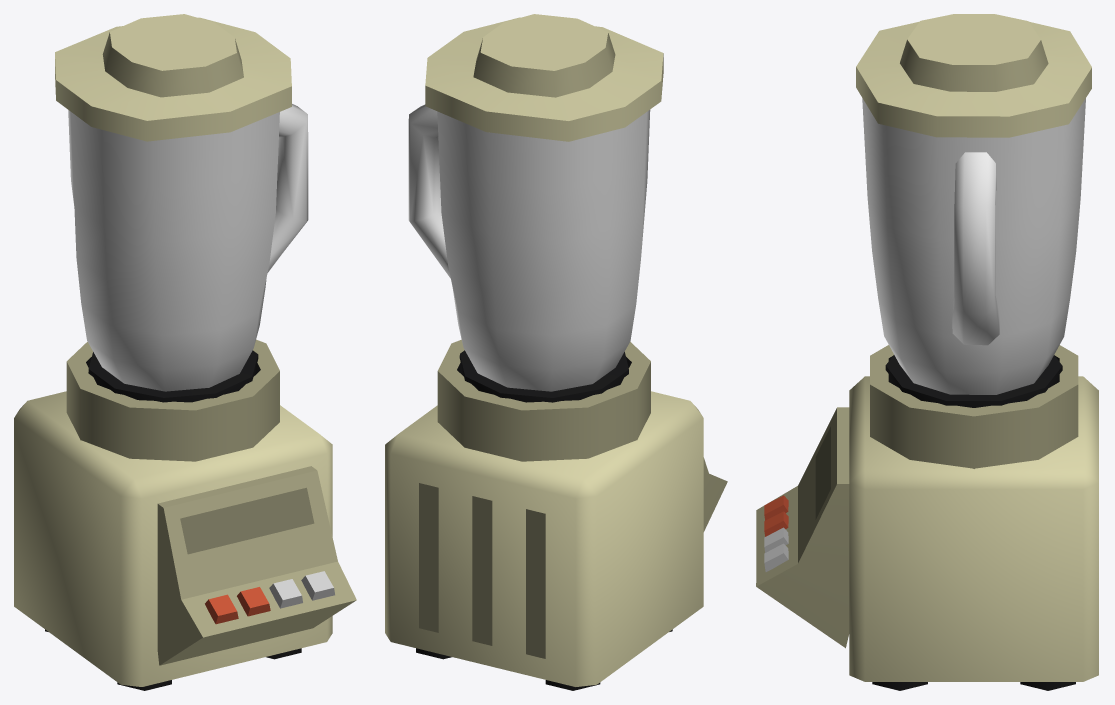
File: Blender.fbx
3 renders of one model, left to right at view 1: azimuth 30°, elevation 25°; view 2: azimuth 150°, elevation 25°; view 3: azimuth 270°, elevation 25°, orthographic. The views are drawn at different scales.
Visible parts, largest first — view 1: Blender, BlenderContainer; view 2: Blender, BlenderContainer; view 3: Blender, BlenderContainer.
Boxes of the visible parts, left/top/right/bottom form: Blender: left=14, top=339, right=356, bottom=690; BlenderContainer: left=55, top=14, right=308, bottom=402; Blender: left=385, top=339, right=727, bottom=690; BlenderContainer: left=408, top=14, right=663, bottom=402; Blender: left=756, top=345, right=1098, bottom=690; BlenderContainer: left=856, top=14, right=1091, bottom=407.
Size of the model in its own units: 0.2995 by 0.7183 by 0.3706.
